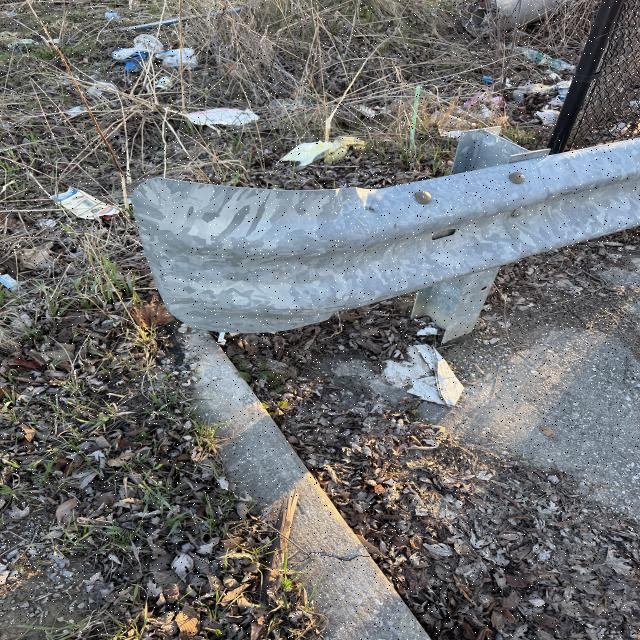Guard rail: (158, 137, 640, 319)
